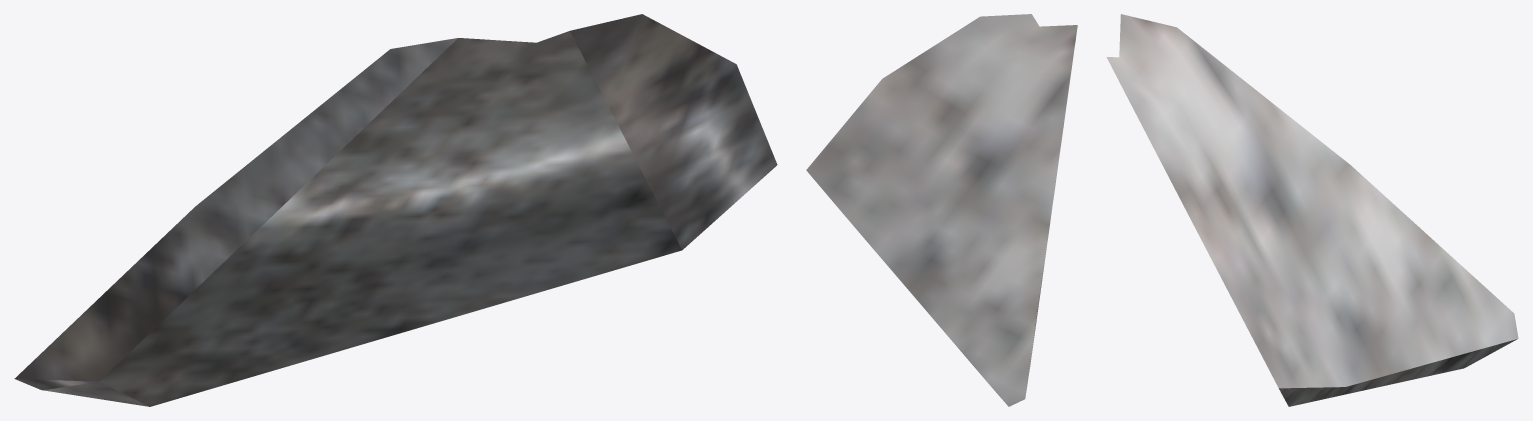
Rendered from Asteroid_Large_001_02_011_03_005.fbx.
3 views of the same model, side by side, from view 1: azimuth 30°, elevation 25°; view 2: azimuth 150°, elevation 25°; view 3: azimuth 270°, elevation 25° (orthographic). The views are drawn at different scales.
Parts seen in each view (by area): view 1: Asteroid_Large_001_02_011_03_005; view 2: Asteroid_Large_001_02_011_03_005; view 3: Asteroid_Large_001_02_011_03_005.
Boxes of the visible parts, x1,y1,x2,y2 form: Asteroid_Large_001_02_011_03_005: (14,14,777,406); Asteroid_Large_001_02_011_03_005: (806,14,1077,406); Asteroid_Large_001_02_011_03_005: (1106,14,1518,406).
Size of the model in its own units: 2.83 by 2.39 by 2.35.
